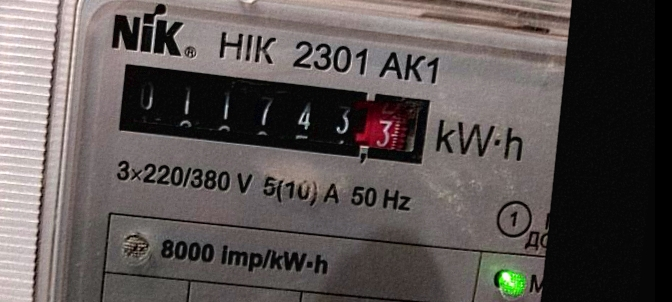0: (134, 77, 157, 115)
1: (217, 87, 235, 122), (180, 83, 194, 117)
3: (330, 101, 353, 138), (373, 118, 394, 152)
4: (293, 97, 314, 133)
7: (255, 92, 276, 128)
screen: (102, 51, 444, 179)
